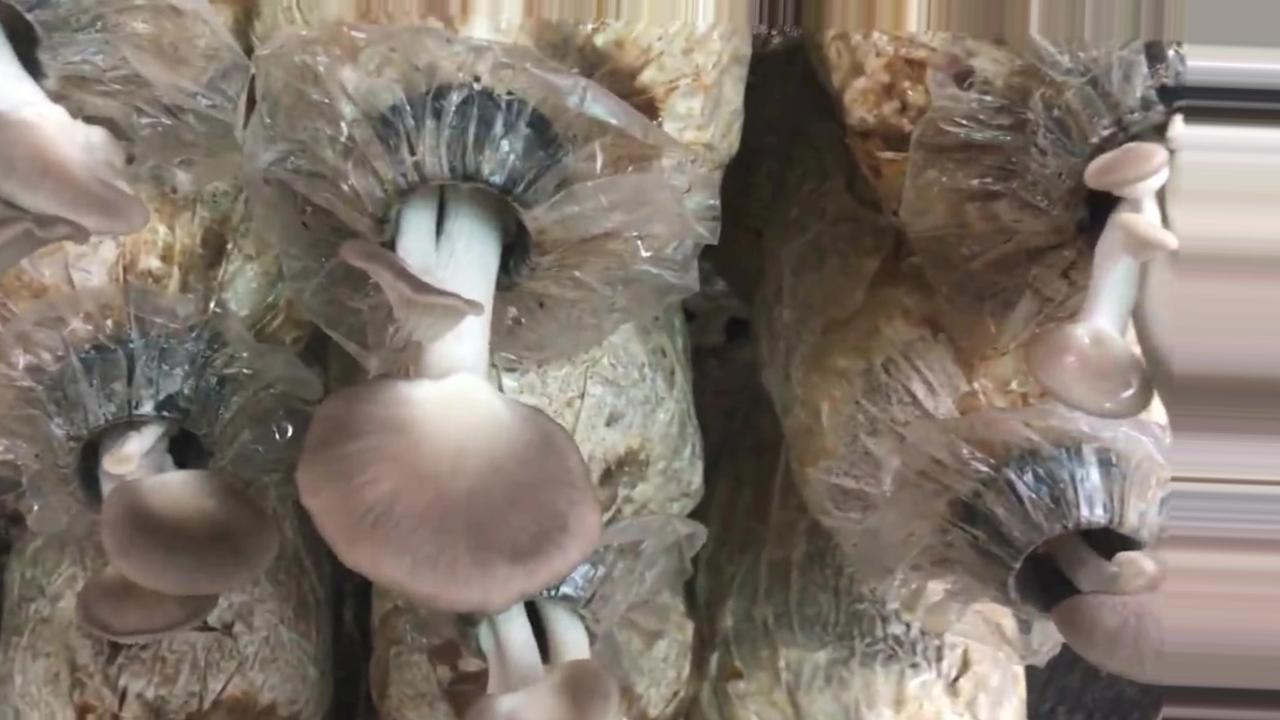nam: (285, 82, 606, 617), (1005, 467, 1280, 688), (78, 364, 278, 638), (1028, 93, 1181, 418), (1, 1, 149, 275)
